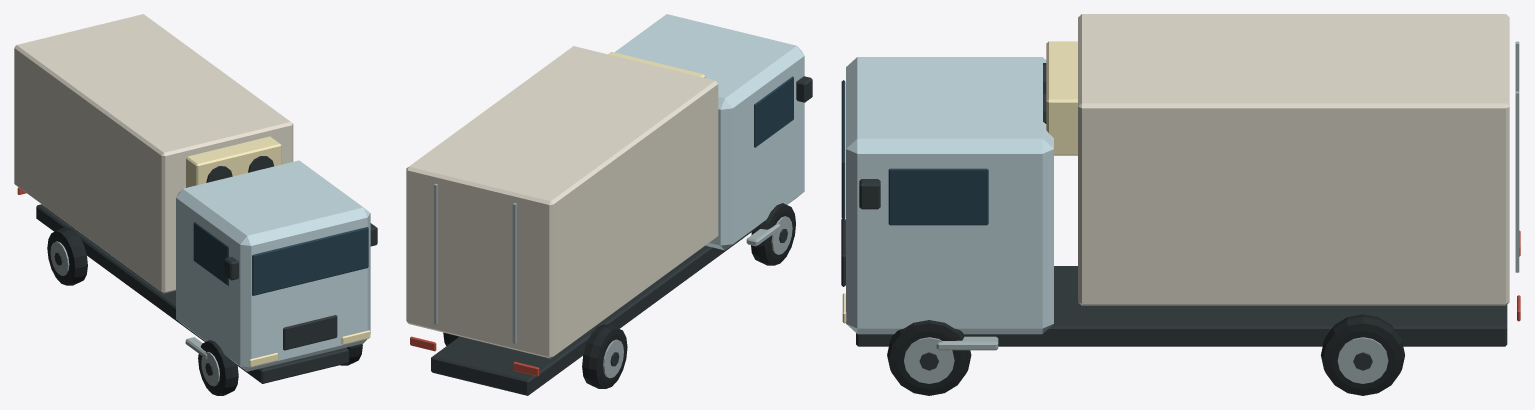
Rendered from truck-fridge-03.glb.
The picture shows the model from 3 angles, left to right: view 1: azimuth 30°, elevation 25°; view 2: azimuth 150°, elevation 25°; view 3: azimuth 270°, elevation 25°; orthographic projection. The views are drawn at different scales.
Visible parts, largest first — view 1: CargoBox, Cab, Glass_Windscreen, Chassis, RefrigerationUnit, Tyre_RR, CabWindow, Grille, Tyre_FR, Rim_RR, Rim_FR; view 2: CargoBox, Cab, Chassis, CabWindow, Tyre_RR, Tyre_FR, CargoDoorBar, CargoDoorBar.001, Rim_RR, Rim_FR, Mirror, RefrigerationUnit (+1 smaller); view 3: CargoBox, Cab, Chassis, CabWindow.001, Tyre_RL, RefrigerationUnit, Tyre_FL, Rim_RL, Rim_FL, CargoDoorBar.001, CabStep.001, Glass_Windscreen (+1 smaller).
Part boxes in pixels (<box>): CargoBox: <box>14,14,293,293</box>; Cab: <box>176,160,370,371</box>; Glass_Windscreen: <box>252,227,368,295</box>; Chassis: <box>36,204,349,383</box>; RefrigerationUnit: <box>186,136,281,187</box>; Tyre_RR: <box>47,228,87,285</box>; CabWindow: <box>193,222,228,285</box>; Grille: <box>283,315,337,350</box>; Tyre_FR: <box>198,340,238,395</box>; Rim_RR: <box>50,241,69,275</box>; Rim_FR: <box>201,352,219,386</box>; CargoBox: <box>406,46,718,358</box>; Cab: <box>614,14,804,250</box>; Chassis: <box>431,231,751,395</box>; CabWindow: <box>754,76,793,147</box>; Tyre_RR: <box>582,324,627,388</box>; Tyre_FR: <box>751,203,795,265</box>; CargoDoorBar: <box>512,203,516,343</box>; CargoDoorBar.001: <box>434,183,437,324</box>; Rim_RR: <box>603,339,623,378</box>; Rim_FR: <box>771,216,792,254</box>; Mirror: <box>796,76,812,102</box>; RefrigerationUnit: <box>608,52,705,77</box>; CargoBox: <box>1078,14,1509,305</box>; Cab: <box>846,57,1053,334</box>; Chassis: <box>856,266,1507,346</box>; CabWindow.001: <box>888,168,988,225</box>; Tyre_RL: <box>1321,314,1404,395</box>; RefrigerationUnit: <box>1046,41,1077,155</box>; Tyre_FL: <box>887,320,971,395</box>; Rim_RL: <box>1337,337,1388,383</box>; Rim_FL: <box>904,337,954,383</box>; CargoDoorBar.001: <box>1515,91,1519,272</box>; CabStep.001: <box>936,336,998,350</box>; Glass_Windscreen: <box>841,80,845,219</box>.
Size of the model in its own units: 2.56 by 3.35 by 7.09.
